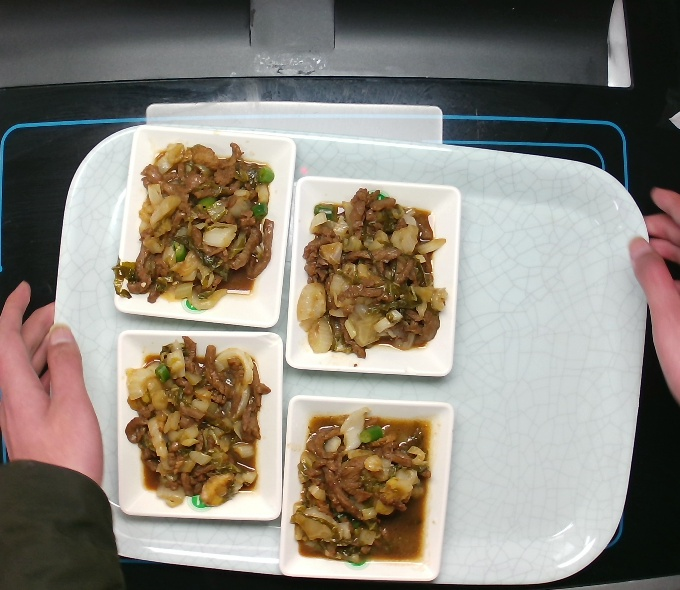wcq-PaoCaiNiuRou: (116, 330, 267, 509), (285, 391, 436, 570), (290, 188, 441, 367), (121, 136, 272, 315)
